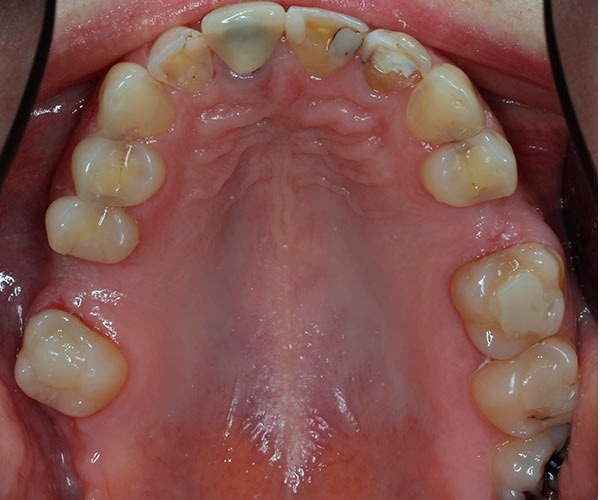UL1BC_decay: (422, 133, 517, 204)
UL1M_healthy: (450, 244, 564, 359)
UL2BC_decay: (448, 205, 528, 256)
UL2M_decay: (471, 340, 574, 435)
UL3M_decay: (493, 430, 569, 500)
ULCI_decay: (285, 6, 367, 76)
ULC_healthy: (416, 63, 483, 136)
ULLI_decay: (361, 29, 429, 92)
UR1BC_decay: (72, 135, 163, 205)
UR1M_decay: (45, 258, 121, 318)
UR2BC_healthy: (46, 199, 136, 262)
UR2M_healthy: (14, 311, 124, 416)
UR3M_decay: (56, 419, 134, 486)
URCI_decay: (201, 2, 285, 73)
URC_healthy: (99, 63, 173, 126)
URLI_decay: (147, 27, 212, 87)
